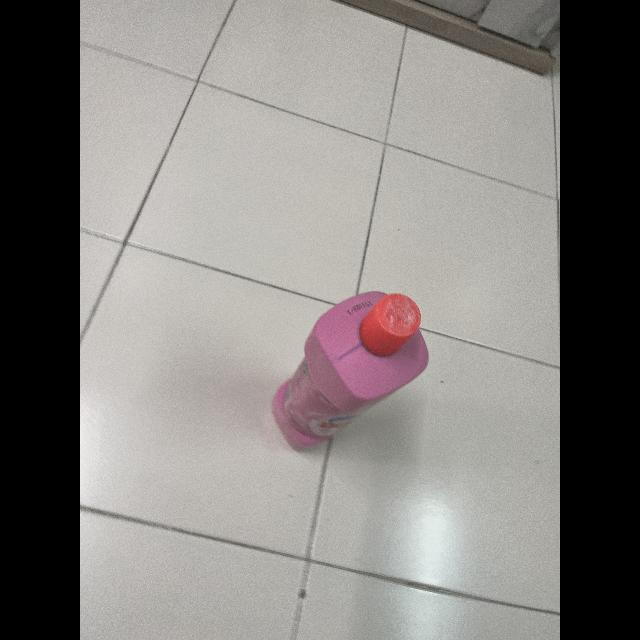chemical_plastic_bottle: (267, 286, 435, 456)
